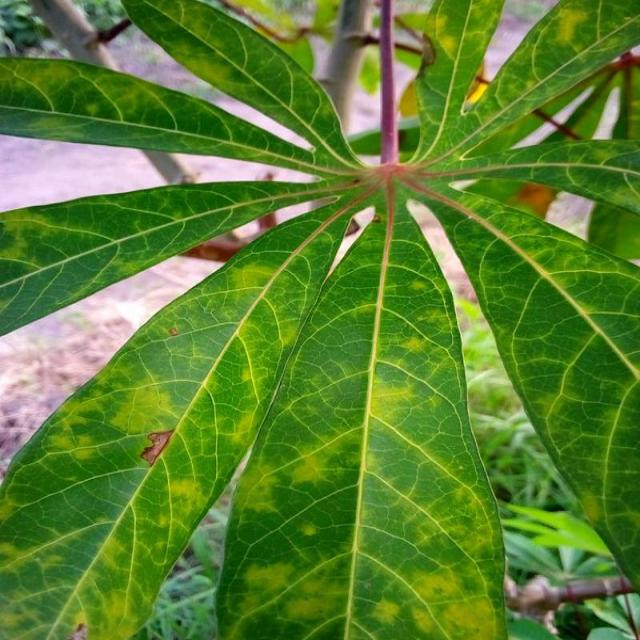cassava leaf: (0, 1, 638, 638), (0, 189, 363, 638), (214, 181, 508, 638)
